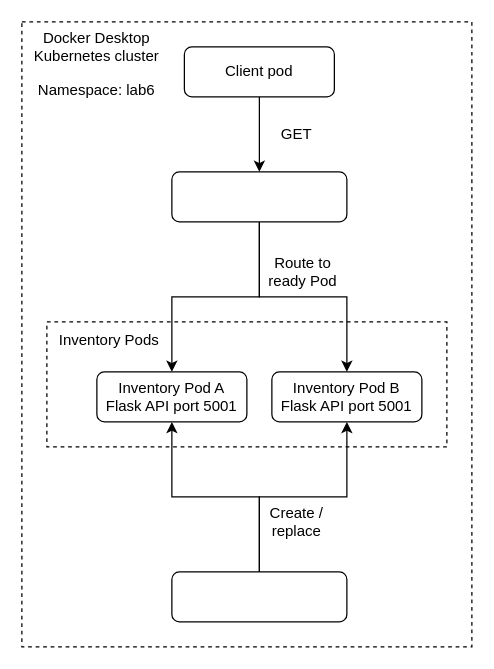
Some shapes in this 494 by 669 pixel diagram are drawn without their labels. Here are the shapes that lost their labels. From the top down, the box of each, then its label:
(171, 171, 347, 222): Service: inventory ClusterIP port 5001
(171, 571, 347, 622): Deployment: inventory 2 replicas
